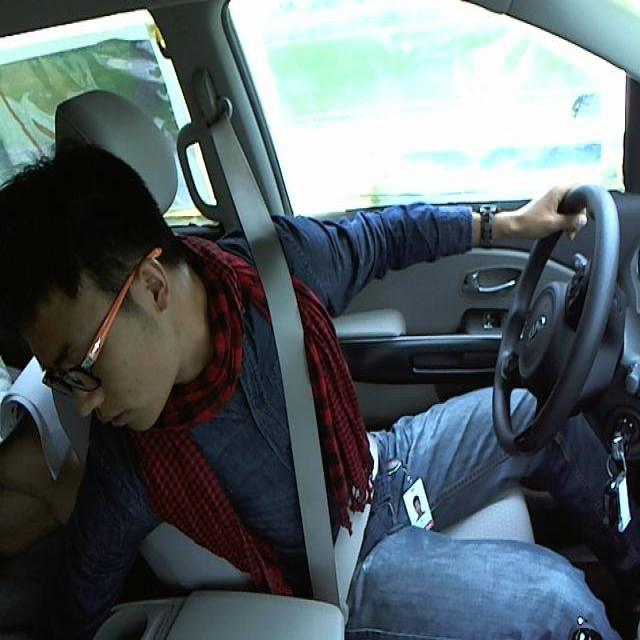seatbelt: (228, 256, 374, 599)
